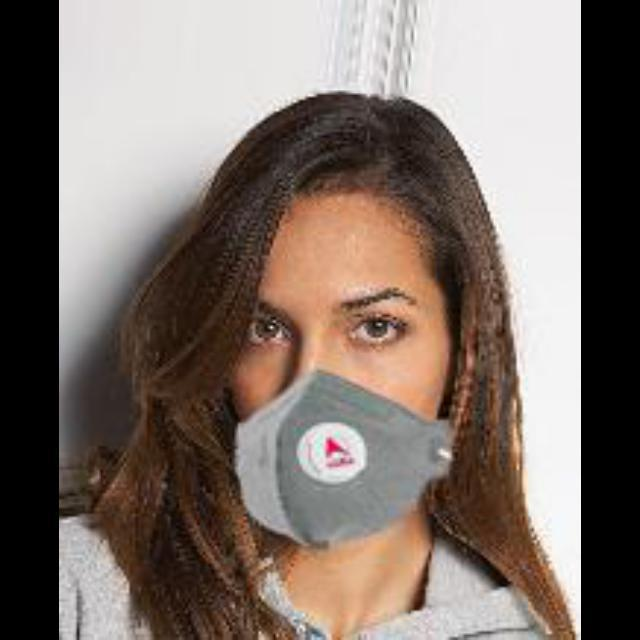suspicion: (205, 120, 510, 522)
